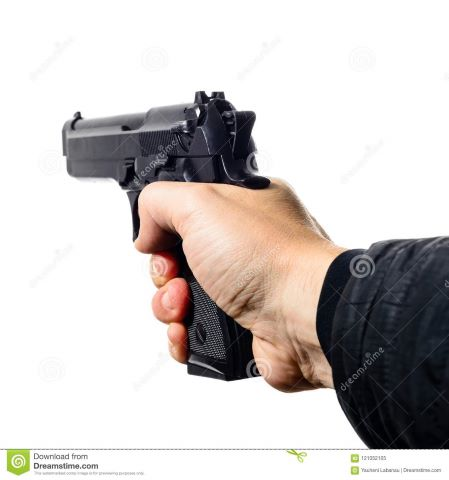pistol: (56, 88, 265, 384)
